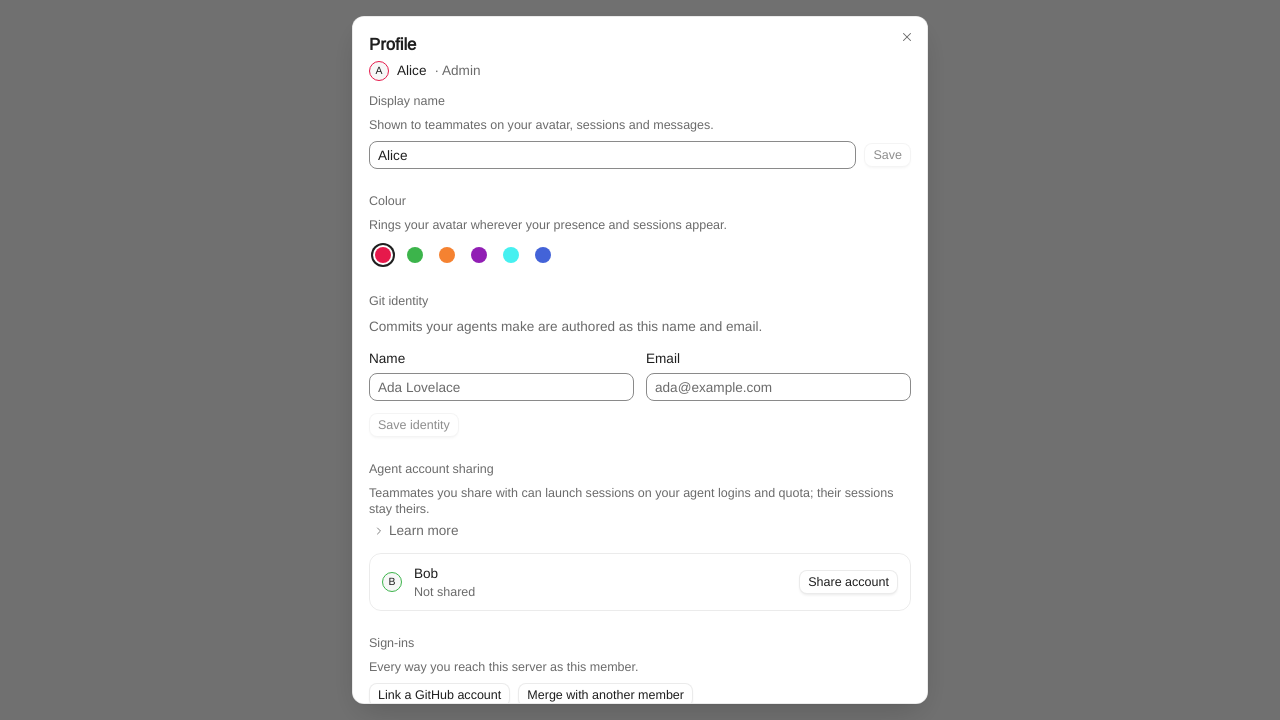
Scenario: profile dialog › reverts an unanswered colour with Retry, then shows a late answer as saved
Click the button named "Set colour #3cb44b".
click(415, 255)  # box [401,241,429,269]
Wait 5000 ms
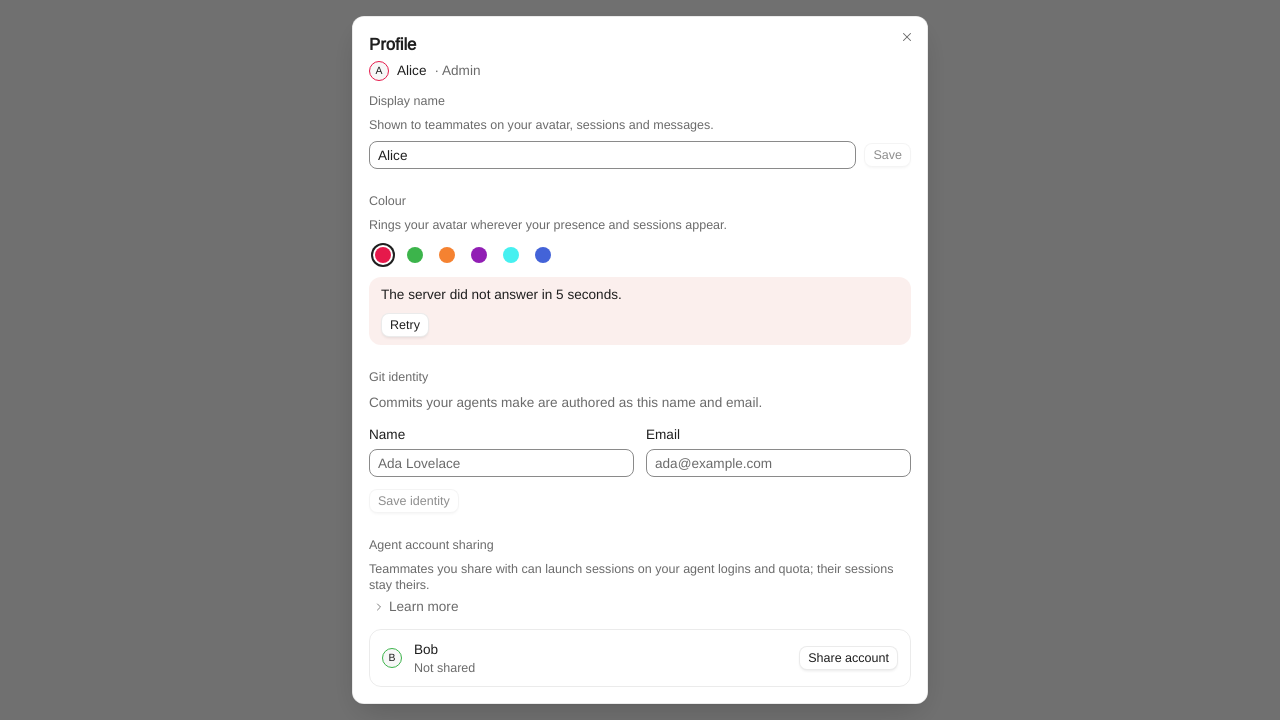
Click the 2nd button named "Retry".
click(405, 325)  # box [381,313,429,337]
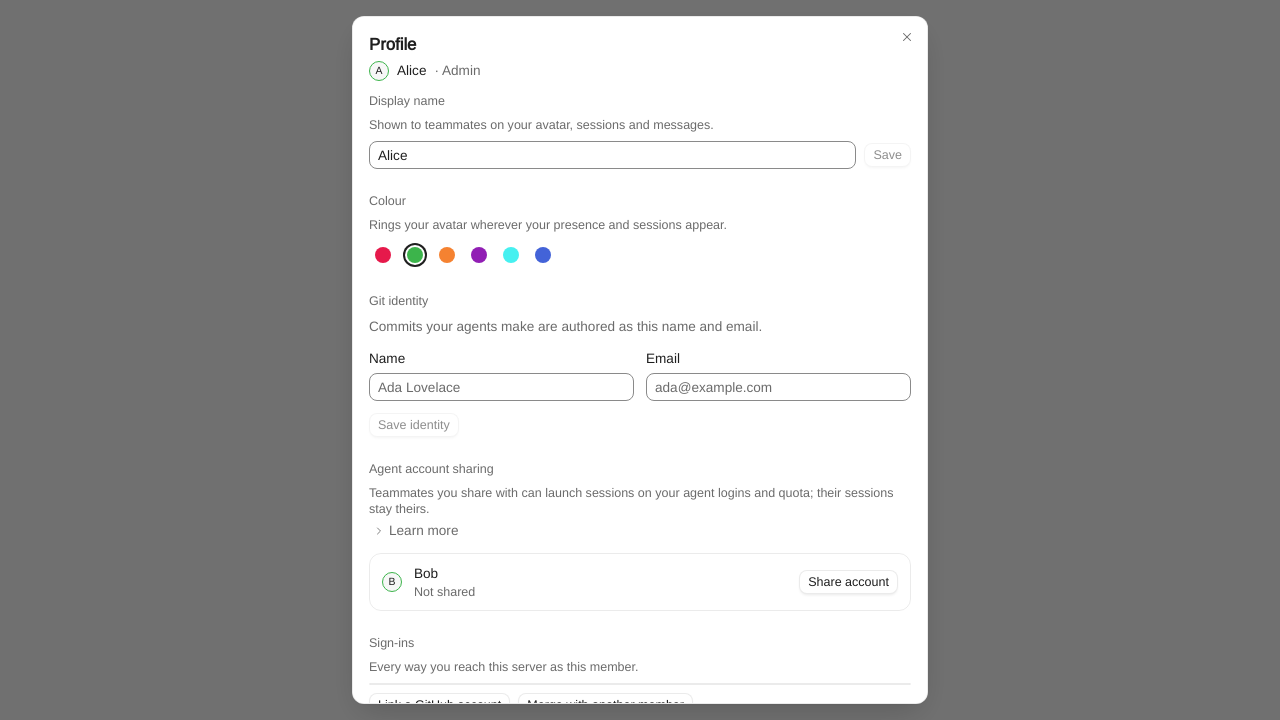
Check: the message is gone
